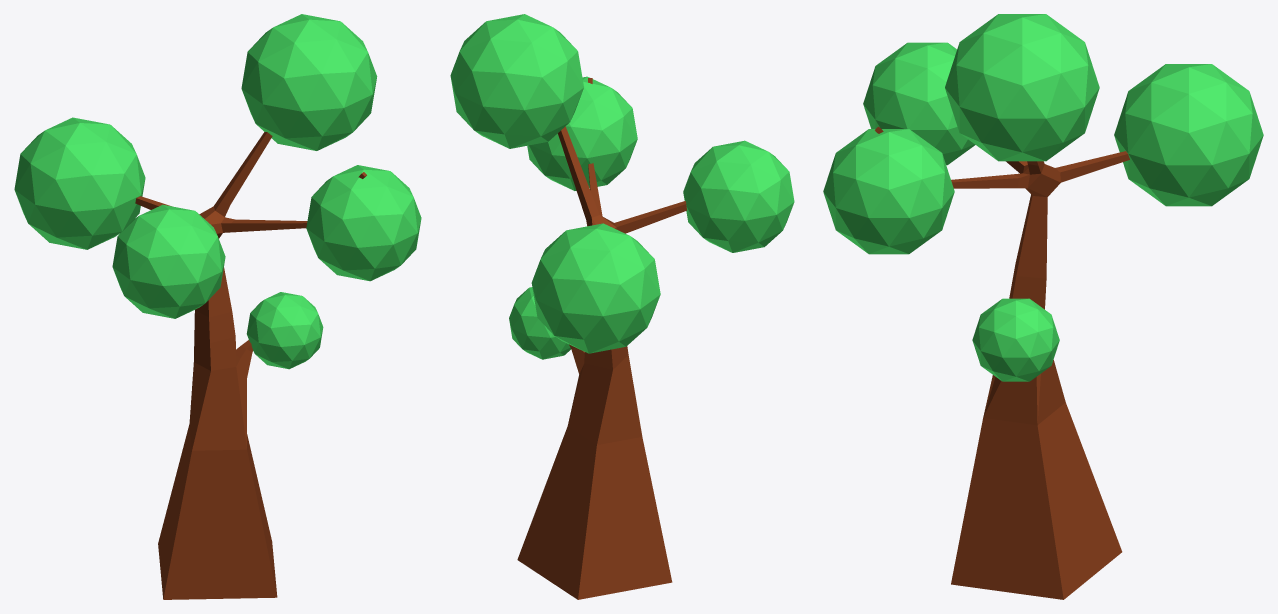
Rendered from 无标题.fbx.
3 views of the same model, side by side, from view 1: azimuth 30°, elevation 25°; view 2: azimuth 150°, elevation 25°; view 3: azimuth 270°, elevation 25° (orthographic). The views are drawn at different scales.
Visible parts, largest first — view 1: 立方体, 棱角球.002, 棱角球.001, 棱角球.003, 棱角球, 棱角球.004; view 2: 立方体, 棱角球.002, 棱角球.001, 棱角球, 棱角球.003, 棱角球.004; view 3: 立方体, 棱角球.002, 棱角球.001, 棱角球.003, 棱角球, 棱角球.004.
Part boxes in pixels (left/top/right/bottom): 立方体: left=135, top=132, right=366, bottom=599; 棱角球.002: left=241, top=14, right=377, bottom=150; 棱角球.001: left=14, top=117, right=145, bottom=249; 棱角球.003: left=306, top=165, right=421, bottom=281; 棱角球: left=112, top=204, right=225, bottom=318; 棱角球.004: left=246, top=292, right=323, bottom=369; 立方体: left=517, top=78, right=686, bottom=599; 棱角球.002: left=450, top=14, right=583, bottom=148; 棱角球.001: left=531, top=223, right=660, bottom=353; 棱角球: left=683, top=140, right=794, bottom=252; 棱角球.003: left=527, top=76, right=637, bottom=190; 棱角球.004: left=509, top=287, right=570, bottom=359; 立方体: left=875, top=126, right=1129, bottom=599; 棱角球.002: left=945, top=14, right=1099, bottom=161; 棱角球.001: left=1114, top=64, right=1263, bottom=206; 棱角球.003: left=823, top=129, right=954, bottom=254; 棱角球: left=863, top=42, right=975, bottom=165; 棱角球.004: left=972, top=298, right=1059, bottom=381.
Bounding box in the file's own units: 791 × 1417 × 940.
